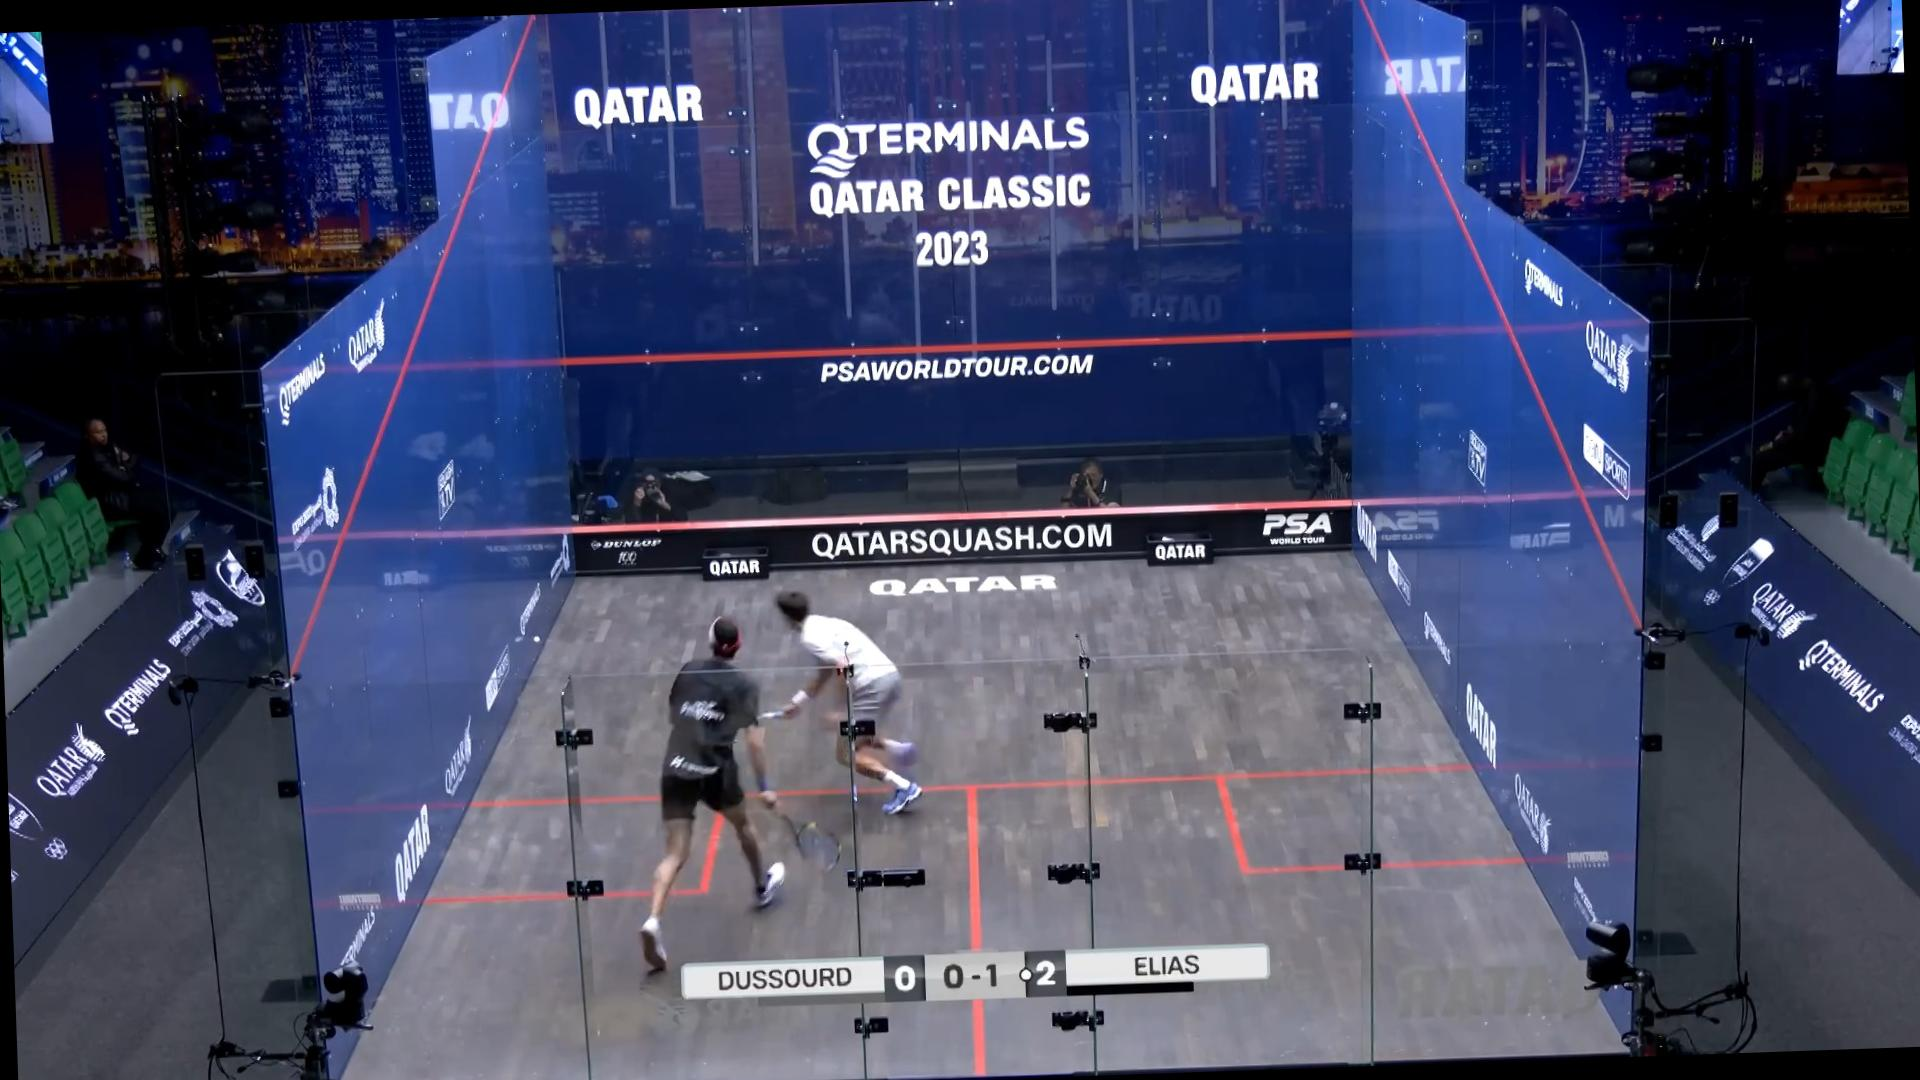Racket: (778, 804, 847, 881)
